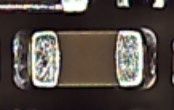COMP: (12, 27, 158, 89)
GAP: (12, 1, 88, 57), (116, 1, 158, 58)
